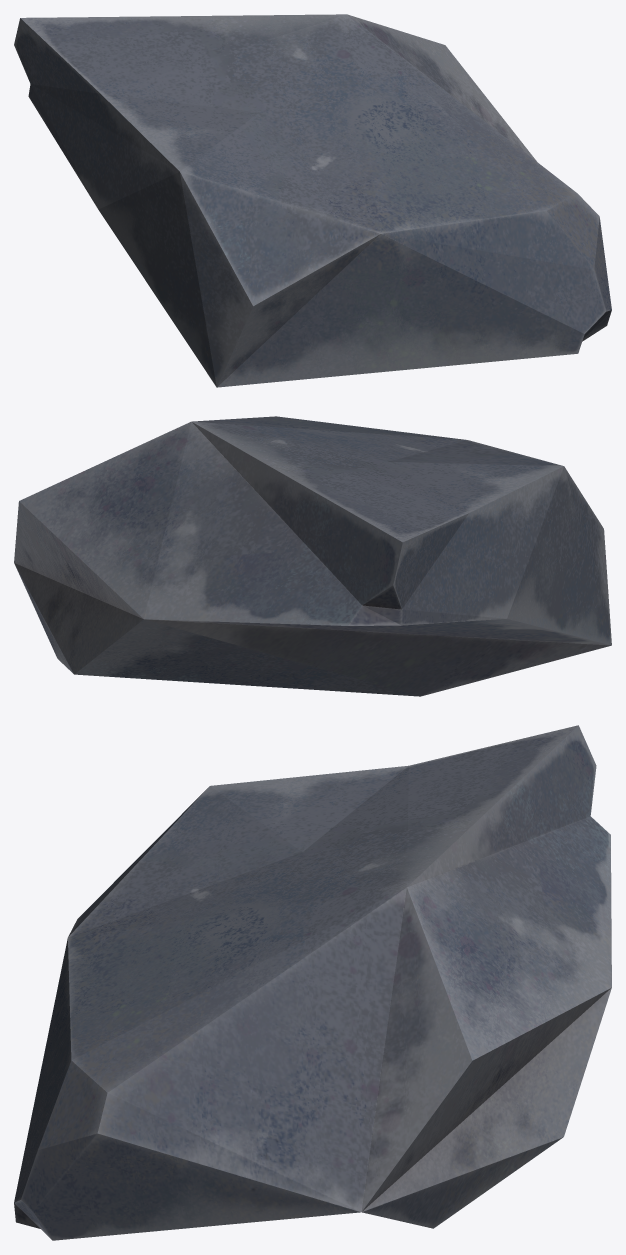
The model's file is stylized_rock_25.fbx.
3 views of the same model, one above another, from view 1: azimuth 30°, elevation 25°; view 2: azimuth 150°, elevation 25°; view 3: azimuth 270°, elevation 25° (orthographic). The views are drawn at different scales.
Parts seen in each view (by area): view 1: stylized_rock_25; view 2: stylized_rock_25; view 3: stylized_rock_25.
Part boxes in pixels (box(x1,y1,x2,y2)): stylized_rock_25: box(14, 14, 611, 387); stylized_rock_25: box(14, 416, 611, 696); stylized_rock_25: box(14, 725, 611, 1240).
Size of the model in its own units: 97.9 by 53.12 by 94.7.
